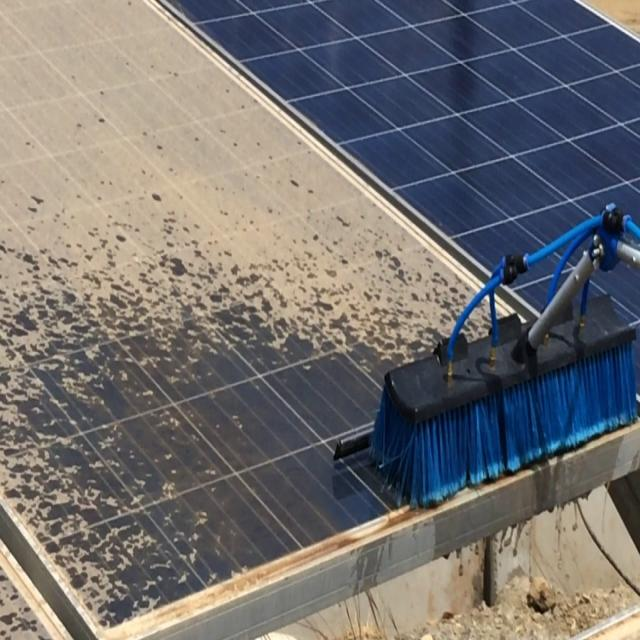clean-solar-panel: (172, 0, 640, 269)
dust-solar-panel: (0, 2, 476, 624)
